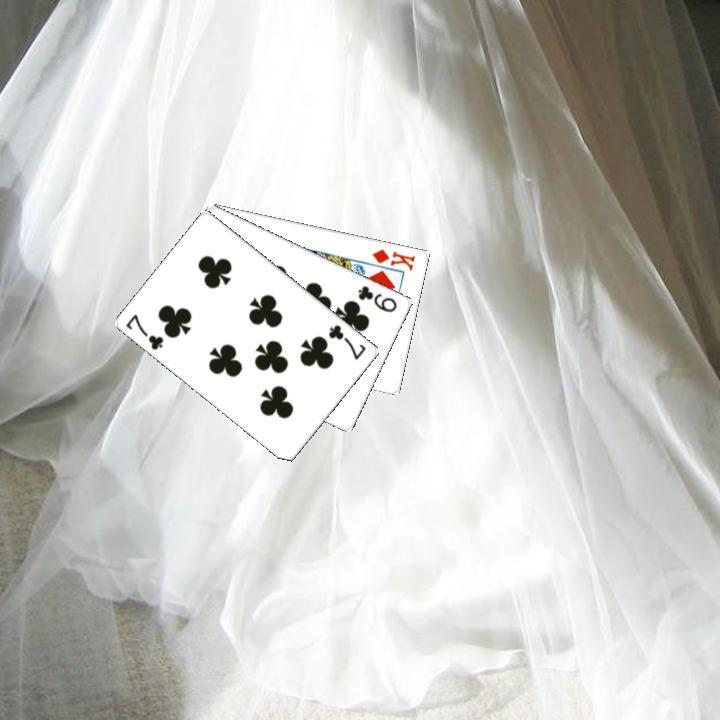7: (122, 309, 166, 352), (324, 320, 368, 362)
9: (353, 281, 399, 314)
K: (368, 244, 417, 272)
